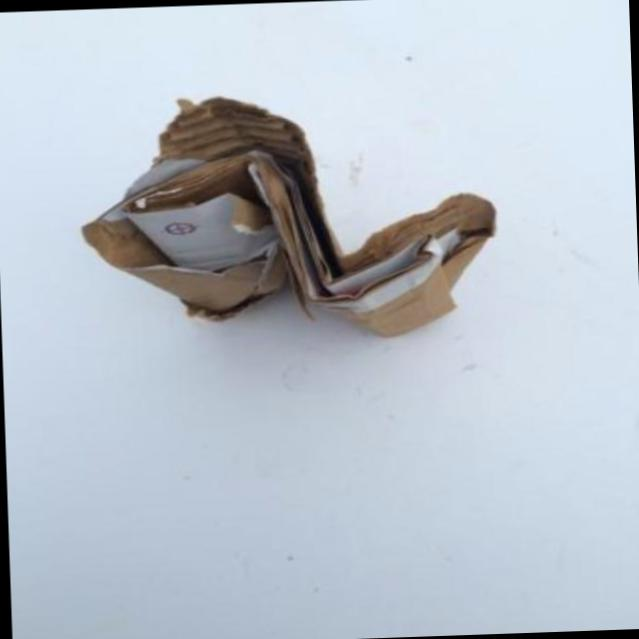cardboard paper: (83, 95, 495, 334)
